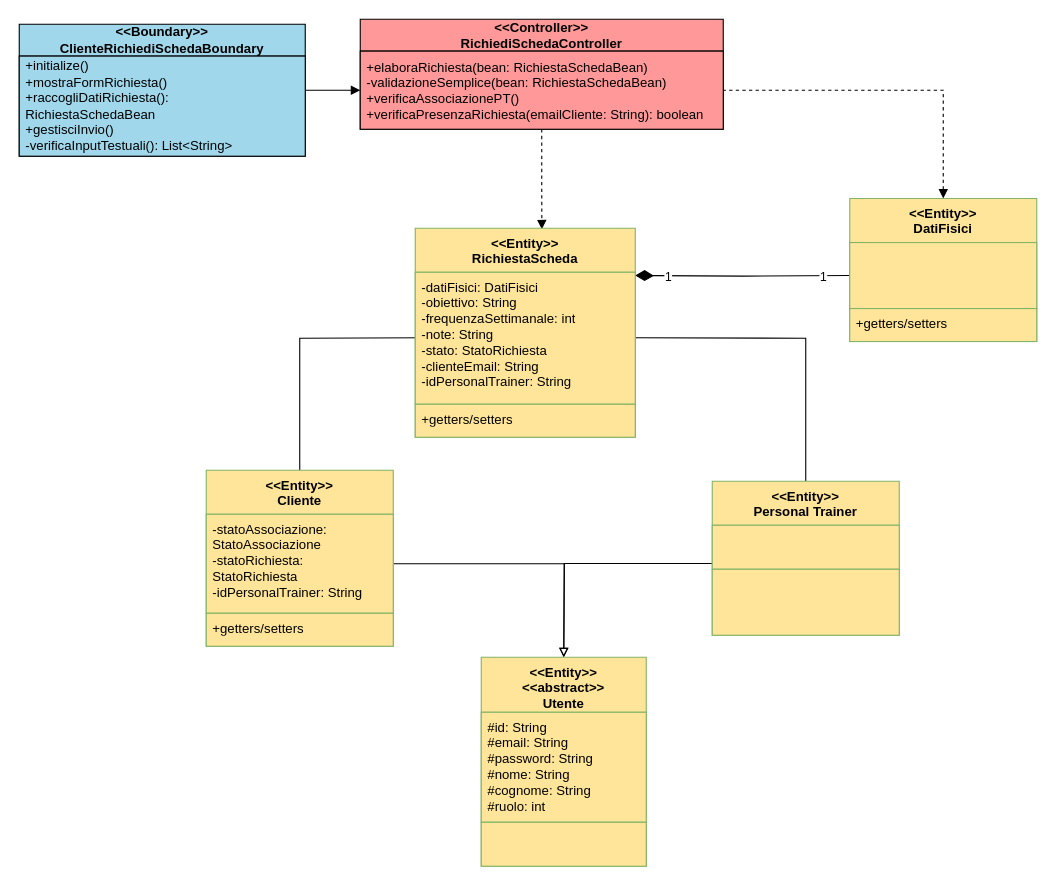
Some shapes in this 1056 by 889 pixel diagram are drawn without their labels. The centre of each missing label's shape, as x and y in pixels:
"-generaID(): String +getters/setters" goes at point (563, 843).
"-sesso: String -eta: int -peso: double" goes at point (943, 275).
